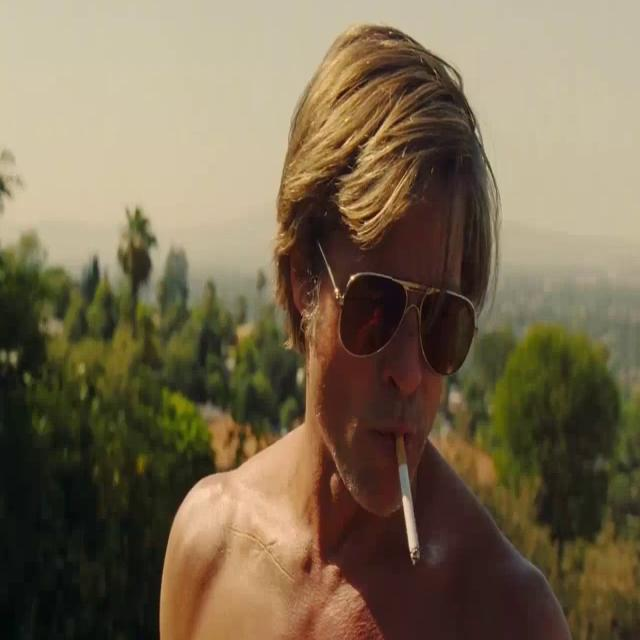Smooking: (395, 442, 425, 573)
